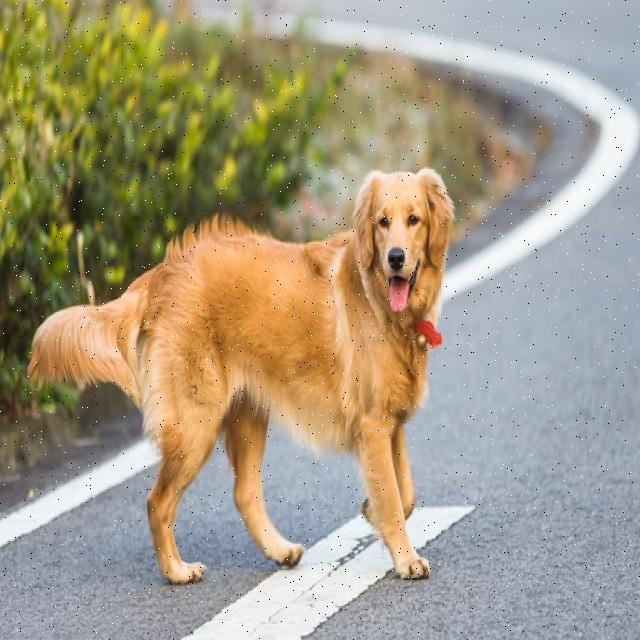Dog: (25, 167, 455, 584)
